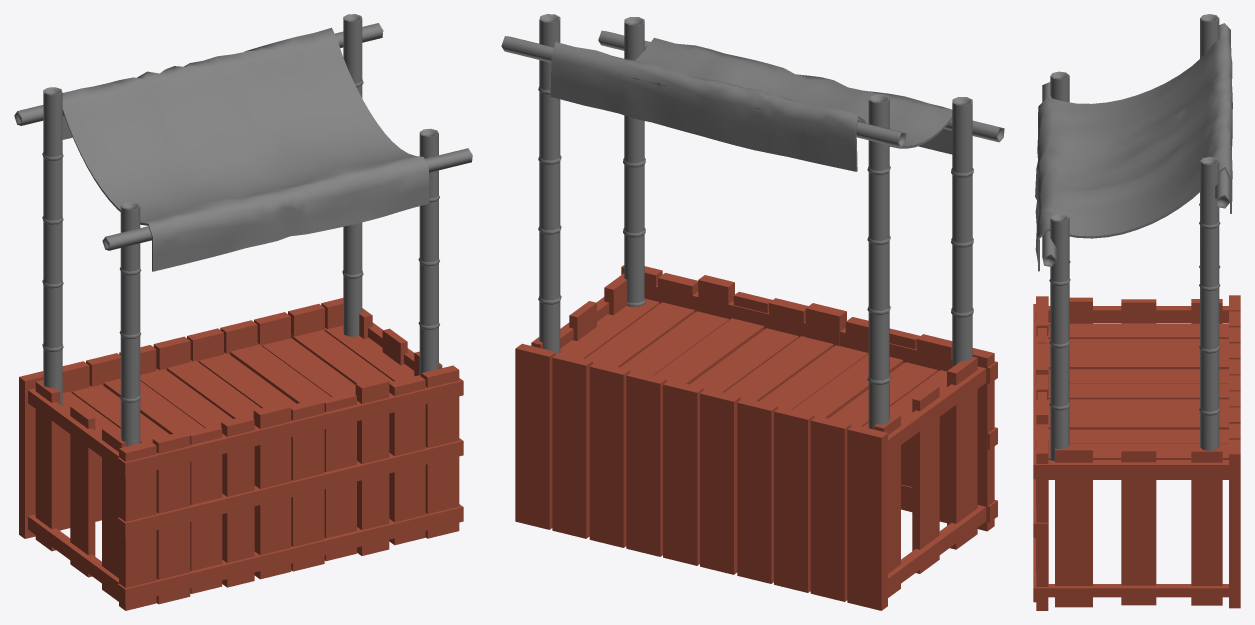
File: SM_marketstand_02.fbx
3 renders of one model, left to right at view 1: azimuth 30°, elevation 25°; view 2: azimuth 150°, elevation 25°; view 3: azimuth 270°, elevation 25°, orthographic. The views are drawn at different scales.
Parts seen in each view (by area): view 1: Box364; view 2: Box364; view 3: Box364.
Boxes of the visible parts, x1,y1,x2,y2 form: Box364: (14, 14, 472, 610); Box364: (501, 14, 1004, 610); Box364: (1033, 14, 1240, 610).
Bounding box in the file's own units: 105 × 125 × 53.12.
